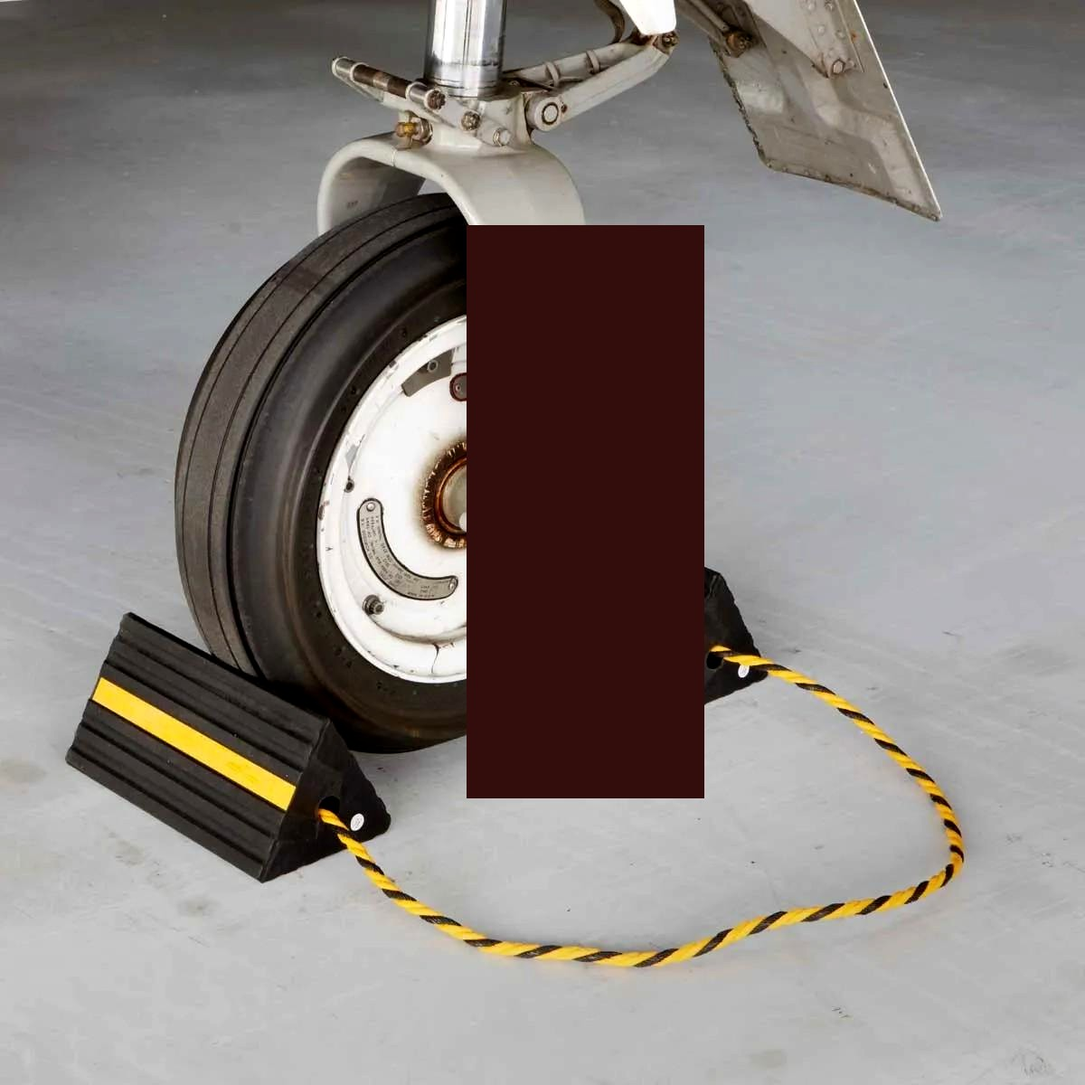chock: (63, 610, 401, 886), (440, 511, 770, 728)
wheel: (183, 197, 678, 747)
